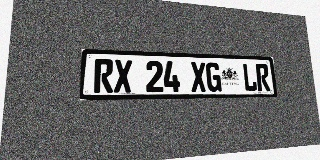2: (146, 60, 163, 92)
4: (163, 61, 180, 92)
G: (206, 62, 222, 92)
L: (242, 63, 257, 91)
R: (94, 59, 113, 93), (255, 64, 270, 91)
X: (114, 59, 132, 93), (190, 62, 207, 92)
